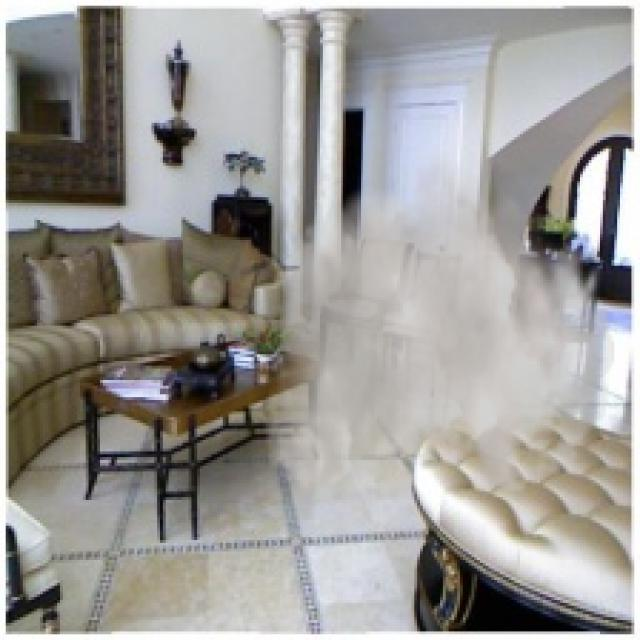smoke: (263, 140, 614, 509)
